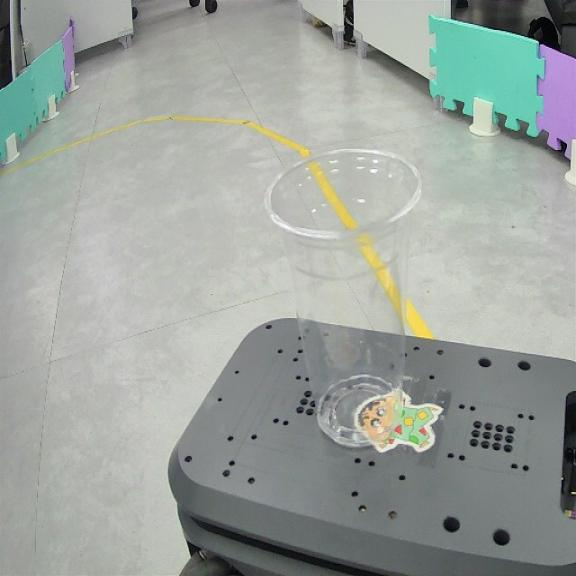Plastik: (266, 150, 421, 451)
